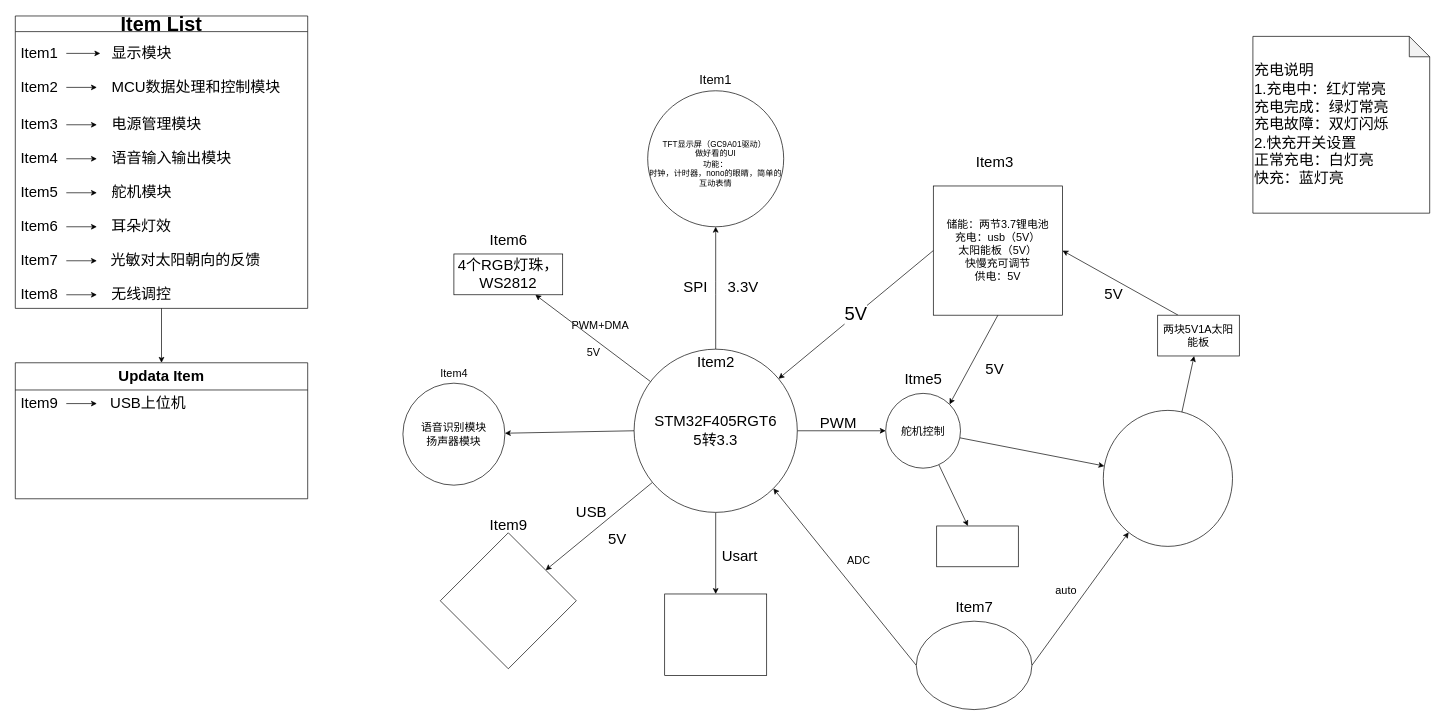
Some shapes in this 1442 by 721 pixel diagram are drawn without their labels. Each missing label, with the box of its shape:
三自由度机械臂控制太阳能板: (1103, 410, 1232, 546)
光敏传感器 识别太阳转动方向: (916, 620, 1032, 710)
底座旋转: (936, 525, 1018, 567)
蓝牙和WIFI调控 设置时间，闹铃，灯光，模式等: (664, 593, 767, 676)
预留USB接口，为后期做上位机做准备: (440, 532, 576, 669)
